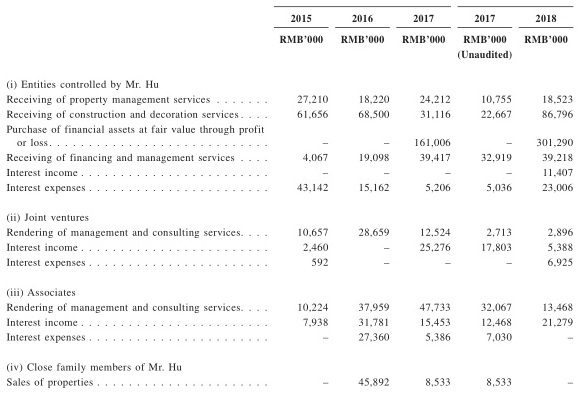column: (5, 1, 268, 394), (457, 1, 513, 394), (401, 1, 453, 394), (523, 1, 575, 394), (340, 1, 391, 394), (279, 1, 329, 394)
row: (1, 361, 578, 374), (1, 123, 578, 135), (1, 79, 578, 90), (1, 93, 578, 104), (1, 182, 578, 193), (1, 212, 578, 223), (1, 302, 578, 313), (1, 33, 577, 44), (1, 49, 577, 60), (1, 109, 578, 119), (1, 138, 578, 148), (1, 152, 578, 162), (1, 227, 578, 237), (1, 242, 578, 252), (1, 287, 578, 297), (1, 317, 578, 327), (1, 331, 578, 341), (1, 377, 578, 387), (1, 168, 578, 177), (1, 257, 578, 266), (1, 13, 577, 22)
